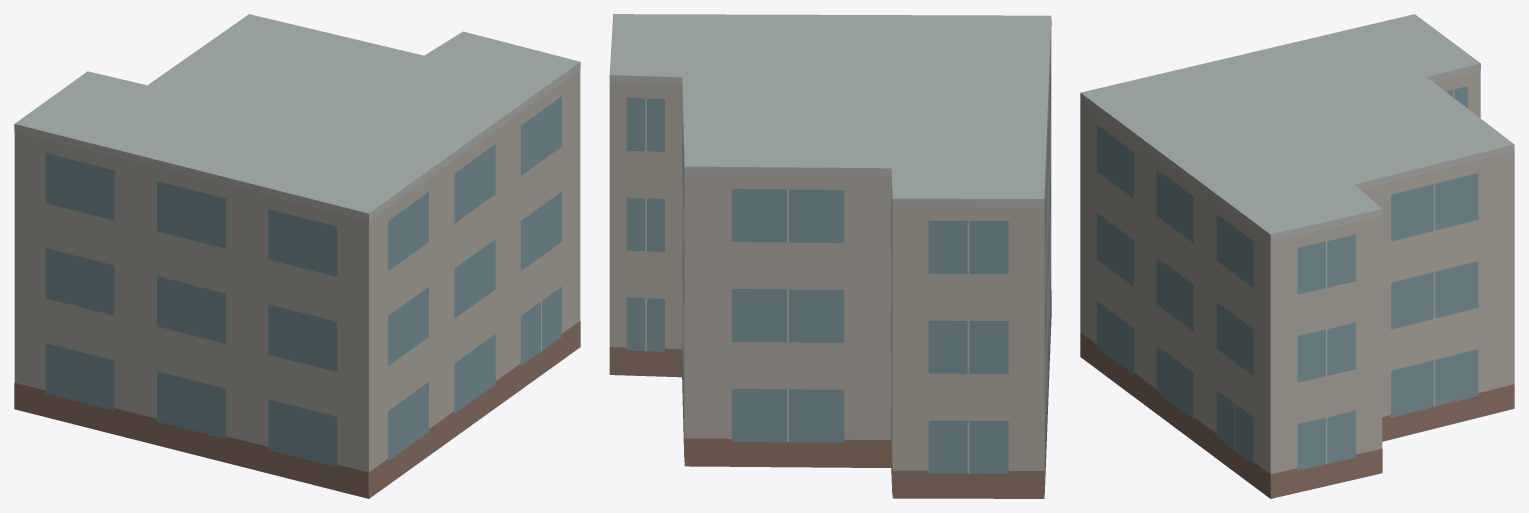
The model's file is survey-upis-32715288.glb.
3 renders of one model, left to right at view 1: azimuth 30°, elevation 25°; view 2: azimuth 150°, elevation 25°; view 3: azimuth 270°, elevation 25°, orthographic. The views are drawn at different scales.
Visible parts, largest first — view 1: survey-upis-32715288.tmp; view 2: survey-upis-32715288.tmp; view 3: survey-upis-32715288.tmp.
Part boxes in pixels (box(x1,y1,x2,y2)): survey-upis-32715288.tmp: box(14, 14, 580, 498); survey-upis-32715288.tmp: box(609, 14, 1051, 498); survey-upis-32715288.tmp: box(1080, 14, 1514, 498).
Bounding box in the file's own units: 16.4 × 9.15 × 13.64.
